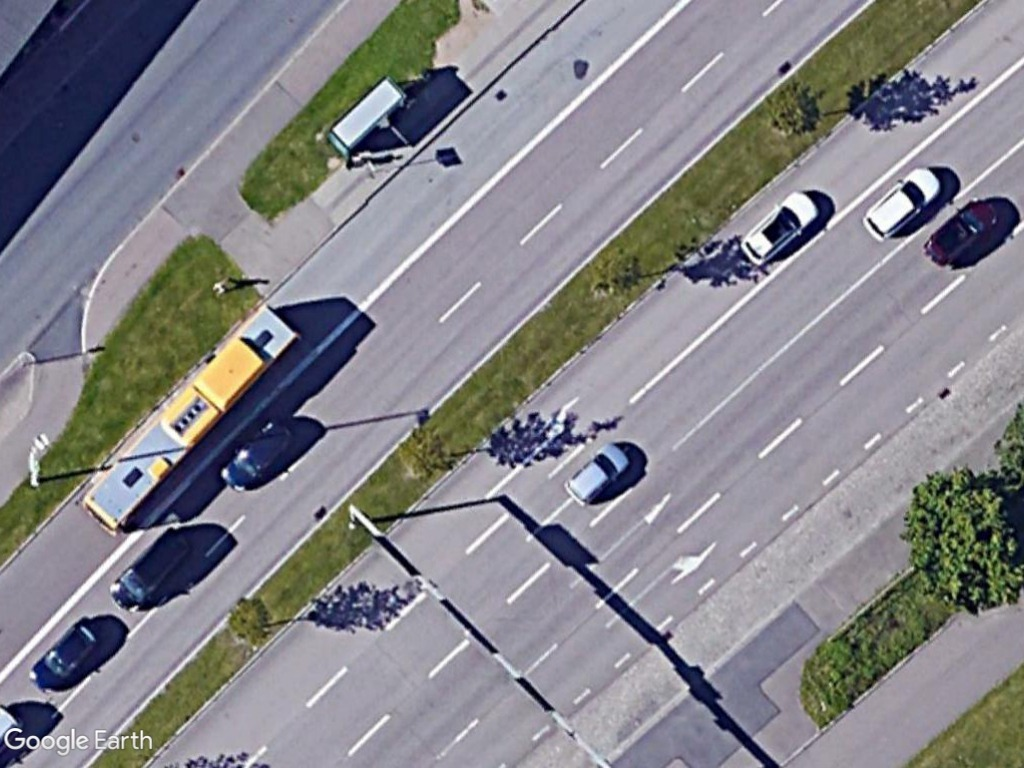bus: (80, 300, 307, 542)
car: (215, 411, 299, 498), (739, 185, 824, 270), (27, 612, 106, 698), (861, 163, 943, 245), (922, 192, 1001, 269), (559, 439, 635, 509)
van: (106, 522, 196, 614)
